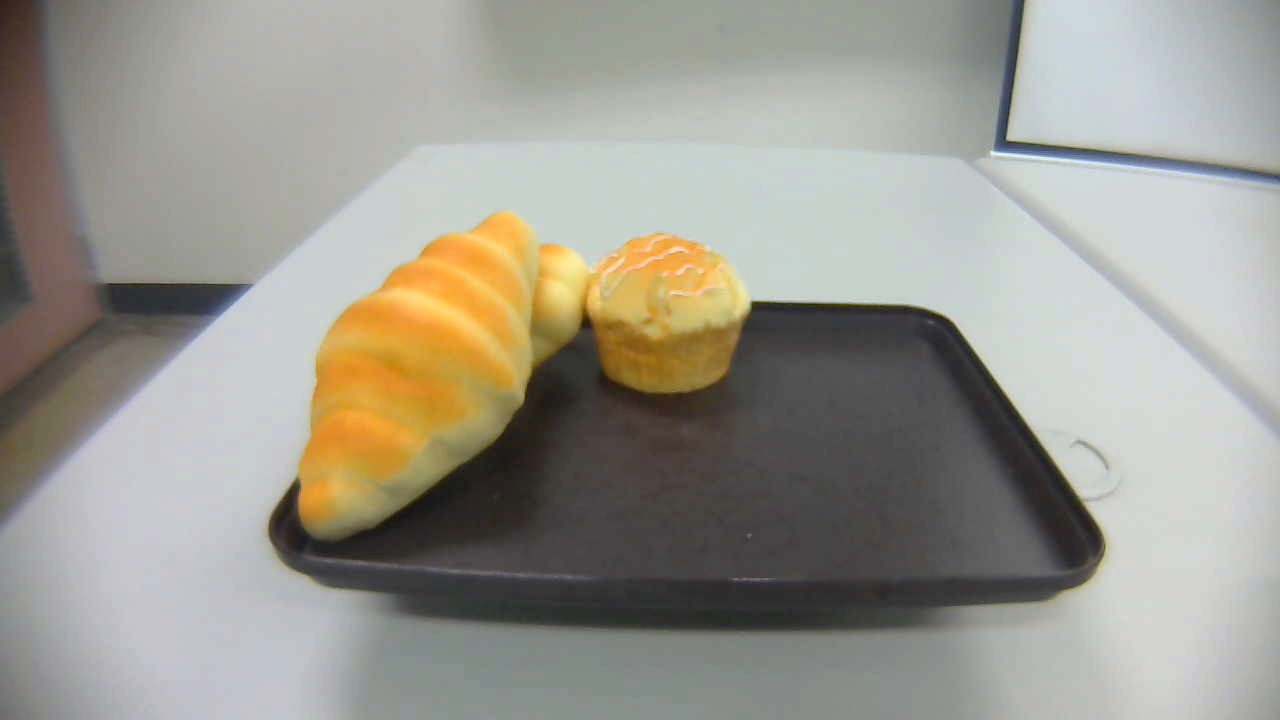croissant: (299, 212, 534, 544)
cupcake: (588, 232, 750, 397)
twist bread: (484, 239, 586, 374)
